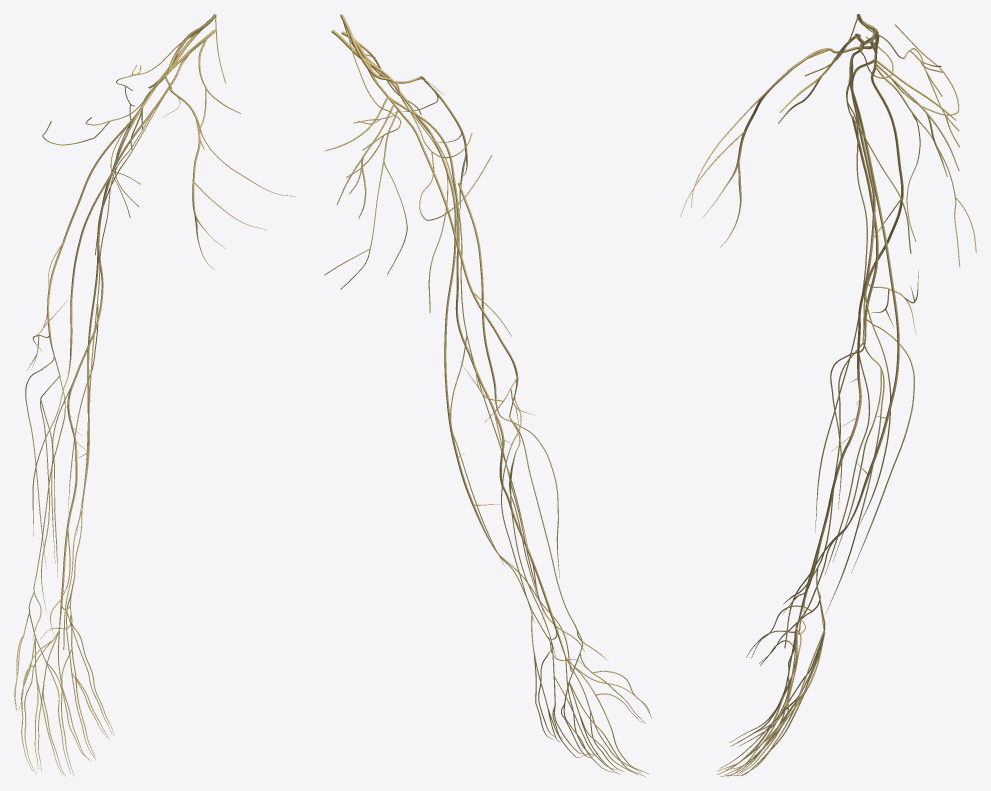
Rendered from detail-nervous-right-upper-limb.glb.
The picture shows the model from 3 angles, left to right: view 1: azimuth 30°, elevation 25°; view 2: azimuth 150°, elevation 25°; view 3: azimuth 270°, elevation 25°; orthographic projection. The views are drawn at different scales.
Visible parts, largest first — view 1: za-c8bdfee1019bd5b3, za-b1dee35e63885c02, za-f473c14b471786ff, za-907c5e4990c4fc74, za-f59b02745b569633, za-4ba0adbac9724c4d, za-e54c267cf109f80c, za-9cfc6360be2bf06d; view 2: za-c8bdfee1019bd5b3, za-f473c14b471786ff, za-b1dee35e63885c02, za-4ba0adbac9724c4d, za-f59b02745b569633, za-e54c267cf109f80c, za-fdbdf25fb9f08dac, za-907c5e4990c4fc74, za-9cfc6360be2bf06d; view 3: za-c8bdfee1019bd5b3, za-f473c14b471786ff, za-907c5e4990c4fc74, za-b1dee35e63885c02, za-4ba0adbac9724c4d, za-f59b02745b569633, za-fdbdf25fb9f08dac, za-e54c267cf109f80c, za-be79ef174b78e350, za-9cfc6360be2bf06d, za-5a7843b18d84bd69.
Boxes of the visible parts, x1,y1,x2,y2 form: za-c8bdfee1019bd5b3: [59, 79, 160, 630]; za-b1dee35e63885c02: [14, 635, 85, 774]; za-f473c14b471786ff: [74, 74, 176, 576]; za-907c5e4990c4fc74: [163, 74, 295, 269]; za-f59b02745b569633: [18, 640, 90, 776]; za-4ba0adbac9724c4d: [47, 90, 150, 375]; za-e54c267cf109f80c: [68, 169, 114, 373]; za-9cfc6360be2bf06d: [23, 376, 65, 640]; za-c8bdfee1019bd5b3: [388, 96, 565, 657]; za-f473c14b471786ff: [388, 80, 532, 610]; za-b1dee35e63885c02: [561, 670, 651, 776]; za-4ba0adbac9724c4d: [398, 109, 518, 416]; za-f59b02745b569633: [573, 667, 649, 774]; za-e54c267cf109f80c: [458, 182, 499, 414]; za-fdbdf25fb9f08dac: [324, 110, 407, 289]; za-907c5e4990c4fc74: [393, 76, 467, 210]; za-9cfc6360be2bf06d: [511, 419, 607, 681]; za-c8bdfee1019bd5b3: [797, 59, 875, 627]; za-f473c14b471786ff: [816, 55, 899, 586]; za-907c5e4990c4fc74: [680, 46, 859, 247]; za-b1dee35e63885c02: [725, 605, 825, 774]; za-4ba0adbac9724c4d: [862, 66, 903, 342]; za-f59b02745b569633: [717, 630, 794, 774]; za-fdbdf25fb9f08dac: [875, 66, 976, 267]; za-e54c267cf109f80c: [851, 116, 878, 348]; za-be79ef174b78e350: [720, 626, 801, 776]; za-9cfc6360be2bf06d: [783, 343, 863, 632]; za-5a7843b18d84bd69: [858, 15, 959, 147].
Bounding box in the file's own units: 0.2983 × 0.7524 × 0.2287.
